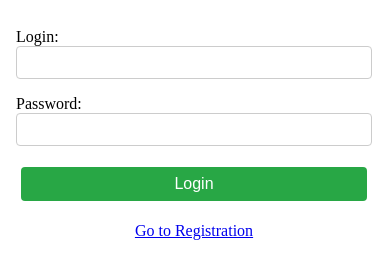
Test case: Login Page render › Displays an error message for invalid credentials
This screenshot has width=389, height=273.
Type "invalidUser" into the field labelled "Login:". click: coordinates (194, 62)
box: [16,46,372,79]
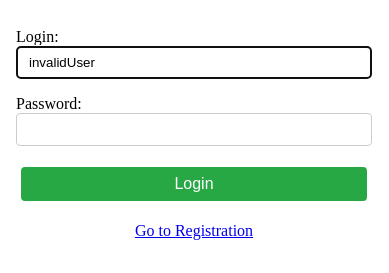
Type "invalidPassword" into the password field labelled "Password:". click: coordinates (194, 130)
box: [16,113,372,146]
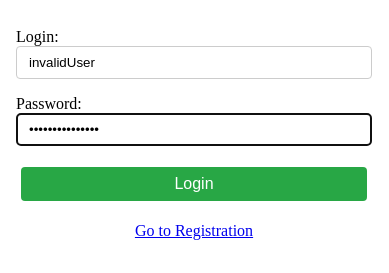
Click the button "Login". click: coordinates (194, 184)
box: [21,167,367,201]
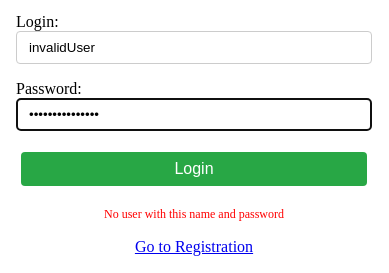
Expected: the text "No user with this name and password" is shown, [104,206,284,220]
